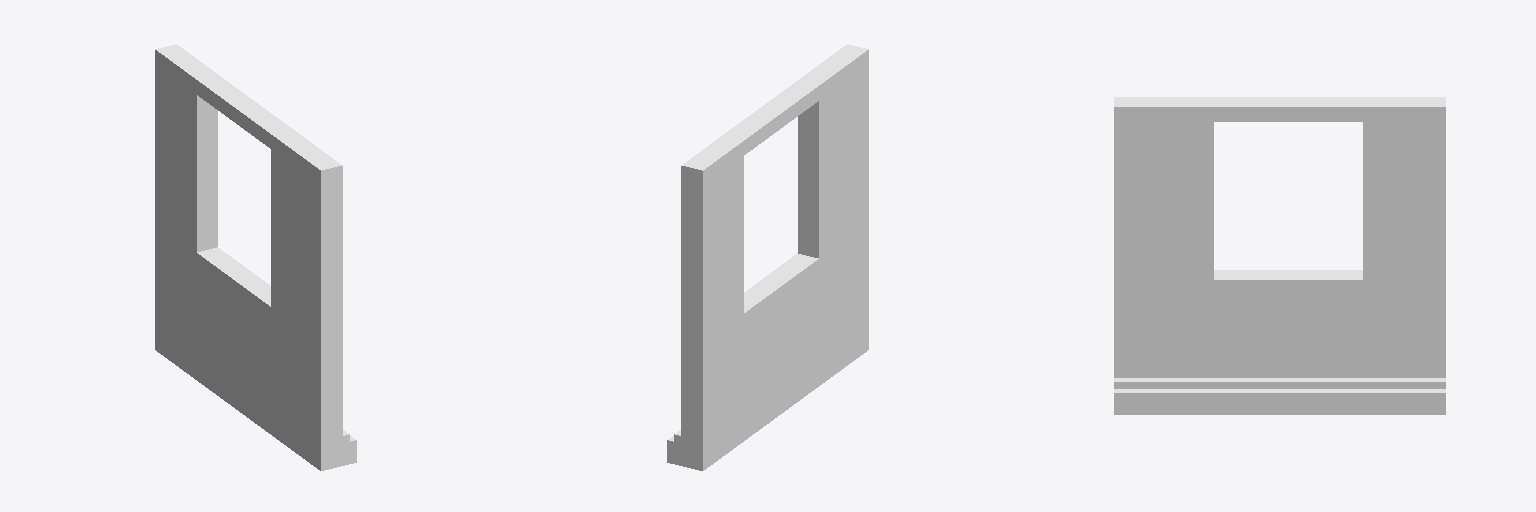
The model's file is lazwall.obj.
3 renders of one model, left to right at view 1: azimuth 30°, elevation 25°; view 2: azimuth 150°, elevation 25°; view 3: azimuth 270°, elevation 25°, orthographic.
Parts seen in each view (by area): view 1: object 1; view 2: object 1; view 3: object 1.
Part boxes in pixels (x1,y1,x2,y2): object 1: (155, 44, 356, 470); object 1: (667, 44, 868, 470); object 1: (1114, 97, 1445, 414).
Size of the model in its own units: 0.5 by 4 by 4.